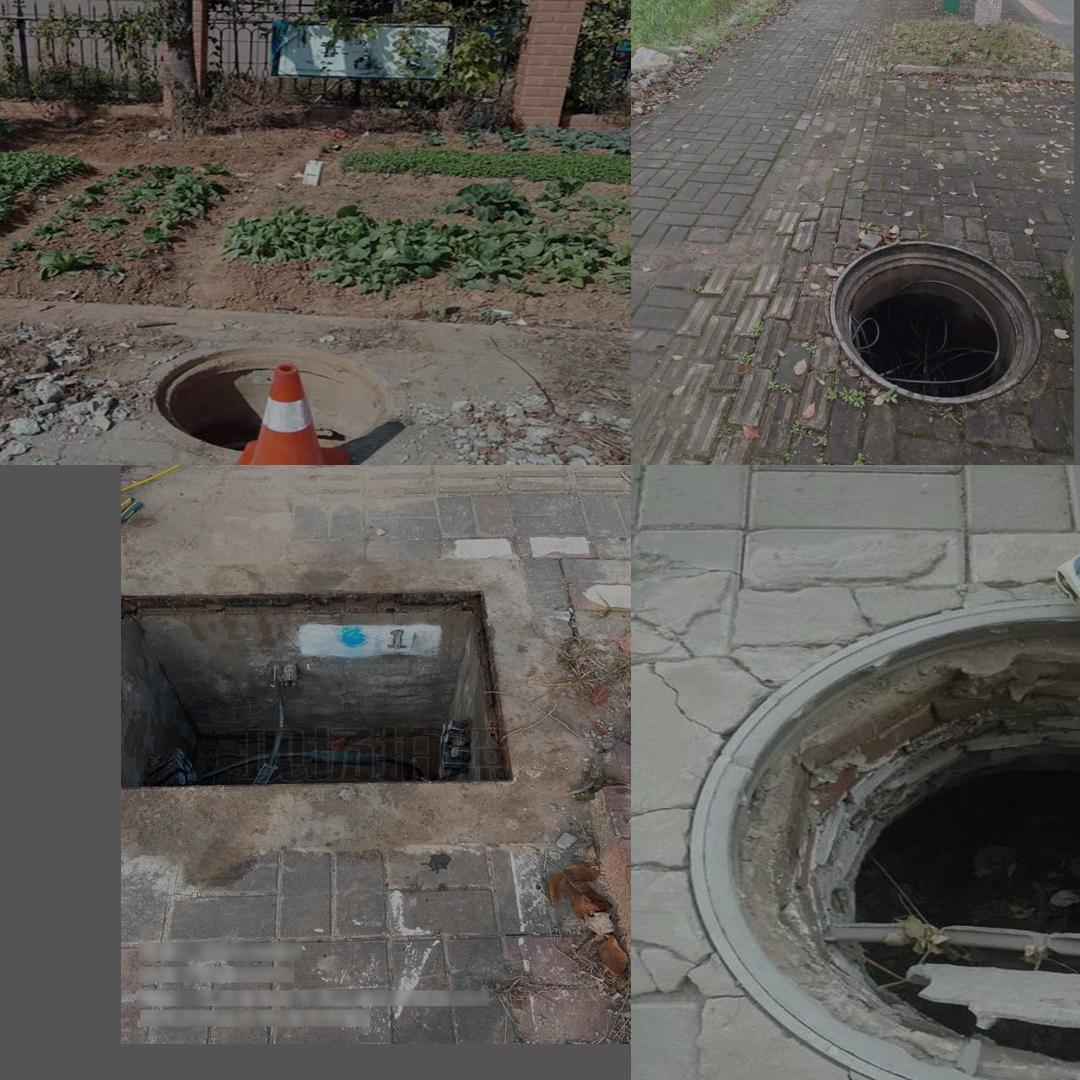lose: (674, 596, 1080, 1080), (126, 593, 518, 784), (829, 239, 1043, 408), (142, 338, 407, 457)
